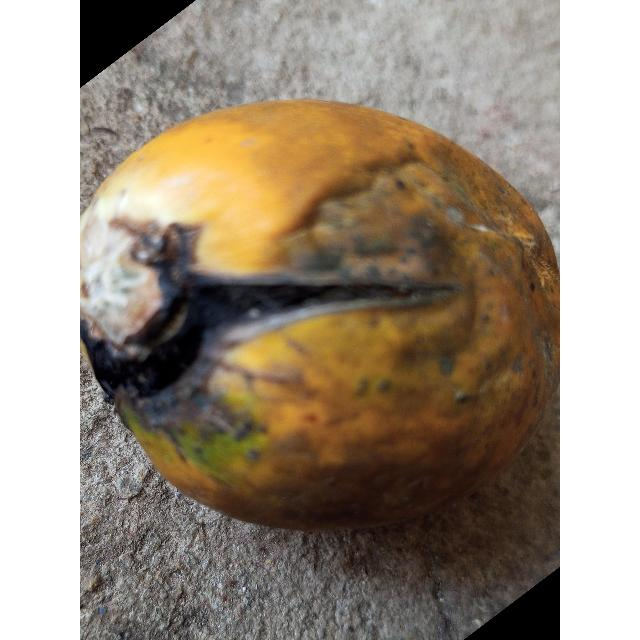damaged: (80, 99, 560, 537)
